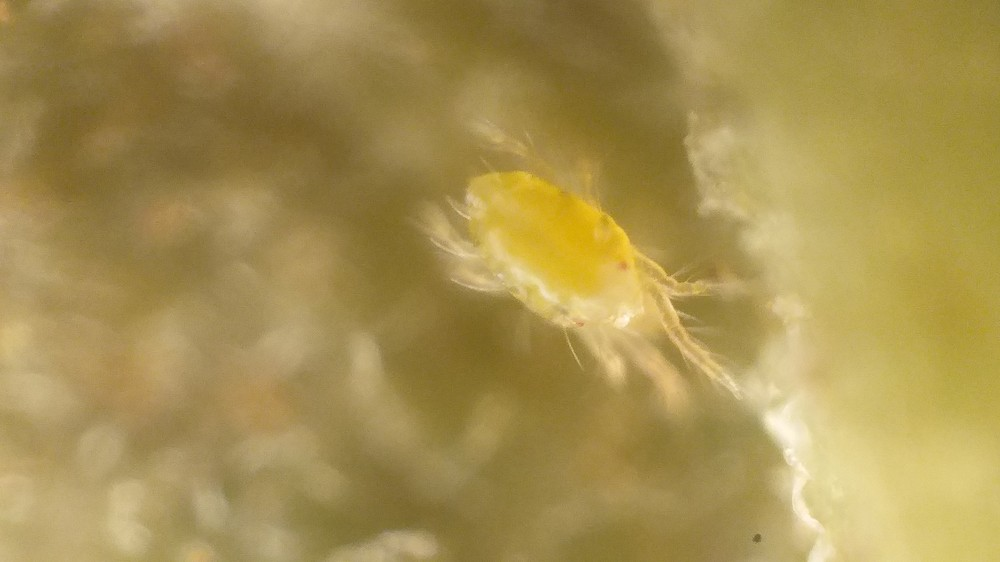Aracnido Rojo: (405, 116, 789, 446)
